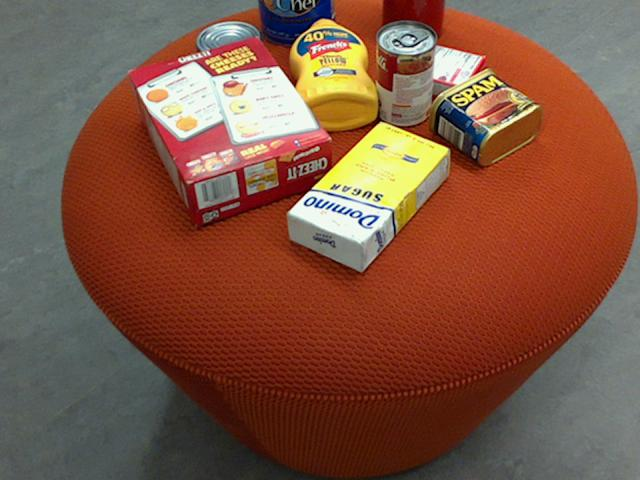cracker_box: (124, 34, 331, 223)
gelatin_box: (398, 41, 485, 103)
large_marker: (400, 0, 418, 37)
master_chef_can: (256, 0, 334, 44)
mug: (380, 0, 444, 43)
mustard_bottle: (288, 18, 376, 130)
potted_meat_can: (426, 68, 540, 165)
sugar_box: (286, 120, 449, 273)
tomato_soup_can: (375, 19, 435, 125)
tuna_fish_can: (193, 21, 262, 77)
